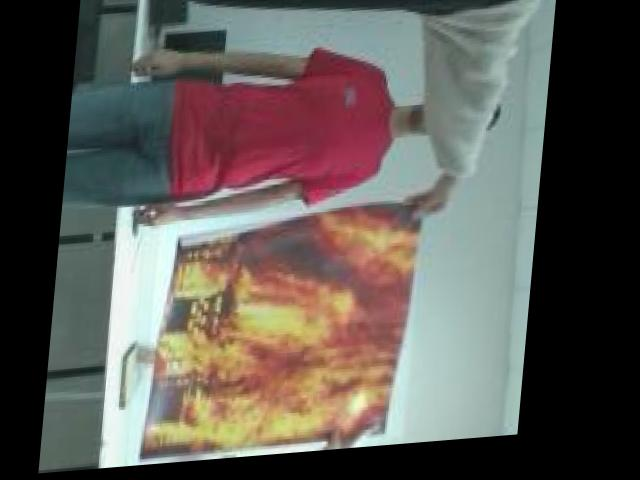fire-poster: (144, 202, 430, 469)
